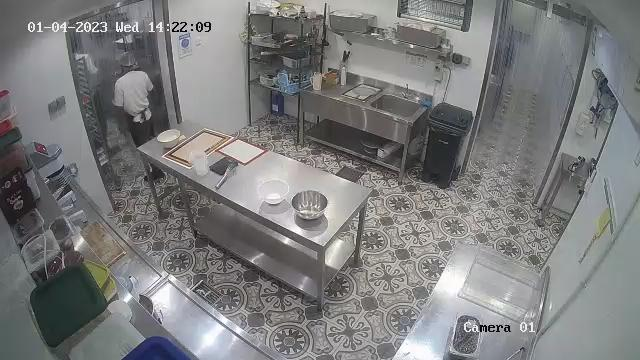apron: (124, 99, 154, 124)
